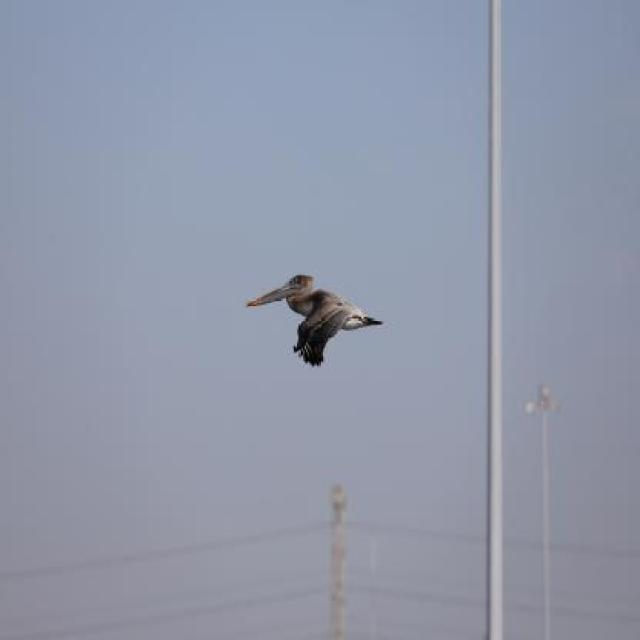bird: (248, 273, 383, 369)
